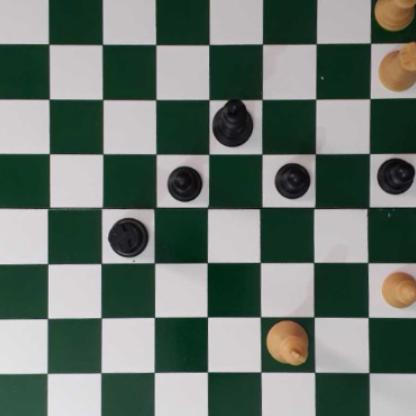black-king: (209, 98, 255, 146)
black-pawn: (375, 154, 415, 195), (165, 164, 204, 202), (274, 160, 310, 199)
black-rook: (107, 217, 150, 259)
white-bishop: (372, 0, 416, 30)
white-king: (264, 319, 309, 366)
white-pawn: (379, 269, 416, 309)
white-rook: (379, 41, 416, 91)
